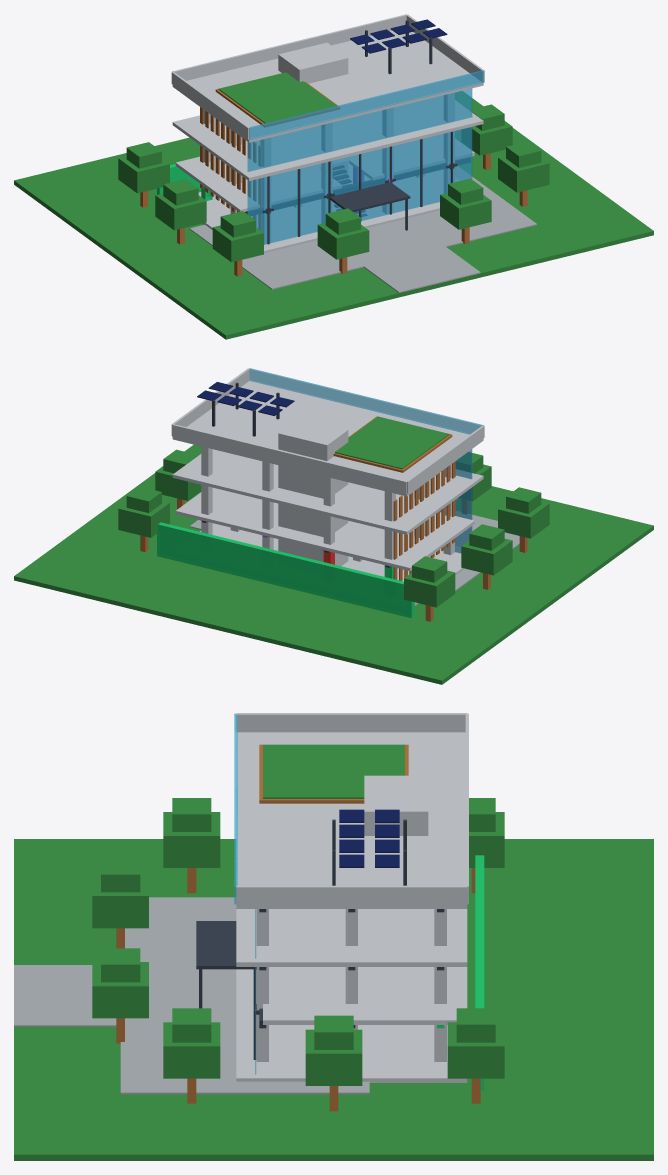
The model's file is BIM_Building_Model.obj.
3 renders of one model, top to bottom at view 1: azimuth 30°, elevation 25°; view 2: azimuth 150°, elevation 25°; view 3: azimuth 270°, elevation 25°, orthographic. The views are drawn at different scales.
Size of the model in its own units: 42 by 14.5 by 36.
